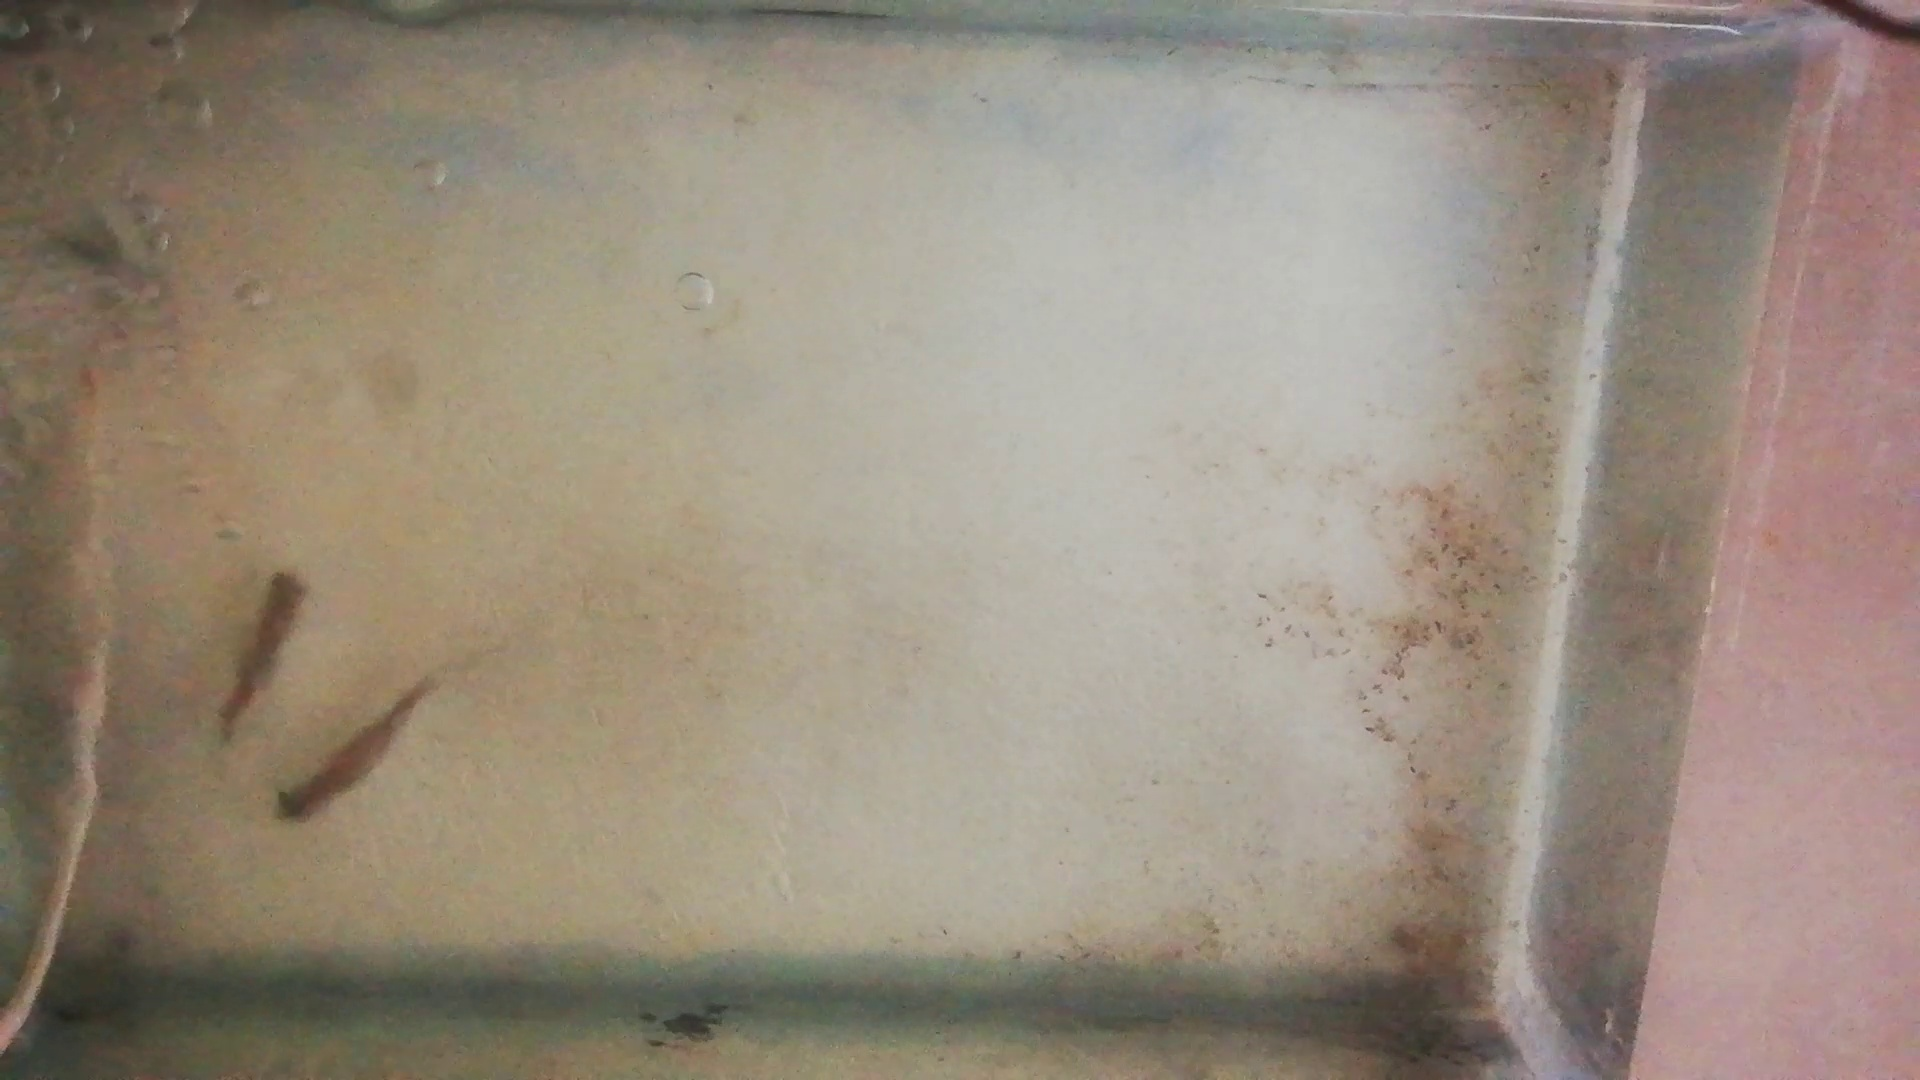fish: (274, 676, 431, 822), (219, 568, 311, 738)
